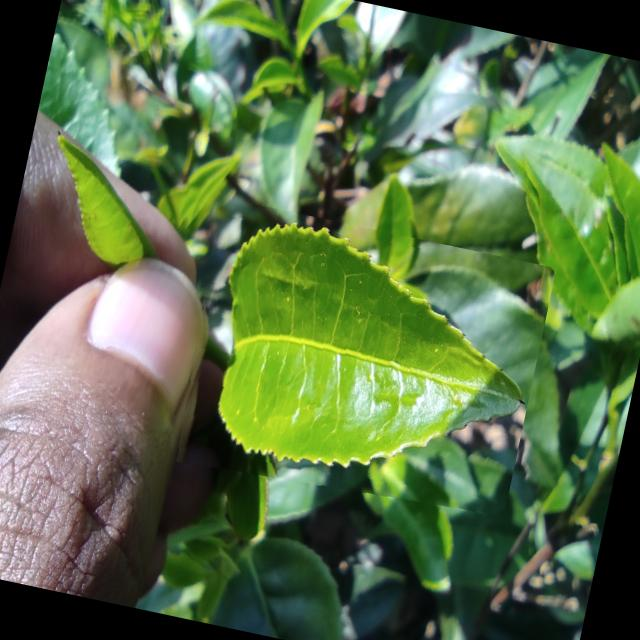Category C(4-7 days): (168, 197, 556, 530)
